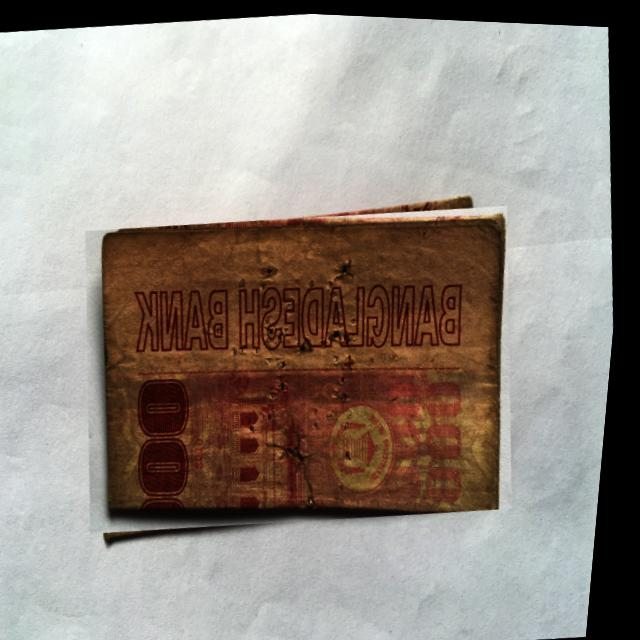Taka: (68, 186, 541, 546)
